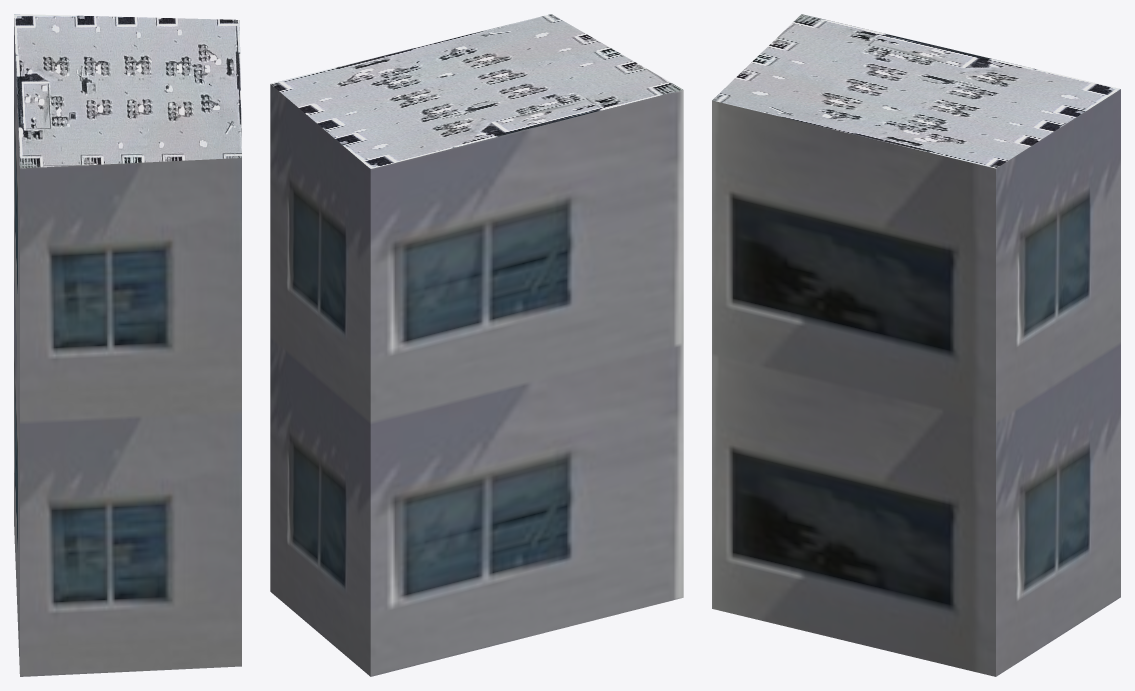
File: ResTex__75.fbx
3 views of the same model, side by side, from view 1: azimuth 30°, elevation 25°; view 2: azimuth 150°, elevation 25°; view 3: azimuth 270°, elevation 25° (orthographic).
Visible parts, largest first — view 1: CityEngineMaterial_10_m, CityEngineMaterial_8_m; view 2: CityEngineMaterial_10_m, CityEngineMaterial_8_m; view 3: CityEngineMaterial_10_m, CityEngineMaterial_8_m.
Part boxes in pixels (box(x1,y1,x2,y2)): CityEngineMaterial_10_m: box(14, 18, 241, 676); CityEngineMaterial_8_m: box(14, 14, 241, 168); CityEngineMaterial_10_m: box(270, 84, 683, 676); CityEngineMaterial_8_m: box(270, 14, 683, 168); CityEngineMaterial_10_m: box(712, 89, 1120, 676); CityEngineMaterial_8_m: box(712, 14, 1120, 168).
Size of the model in its own units: 3.91 by 6 by 4.37.
2 materials, 2 textured.
